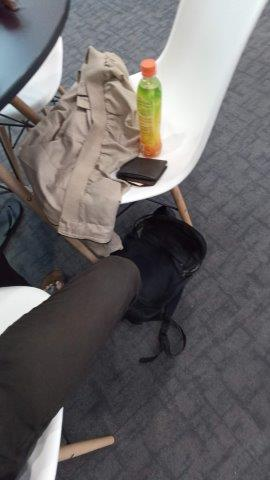botolplastik: (137, 59, 162, 157)
